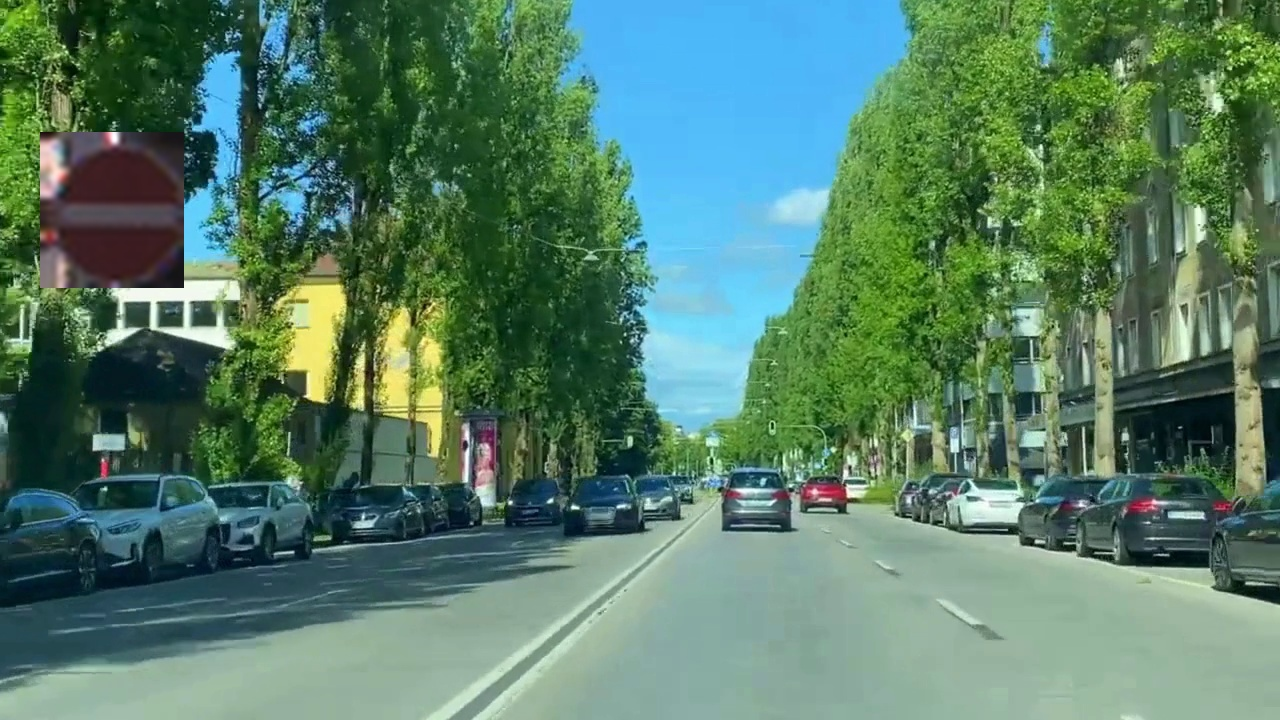No entry: (40, 132, 184, 288)
